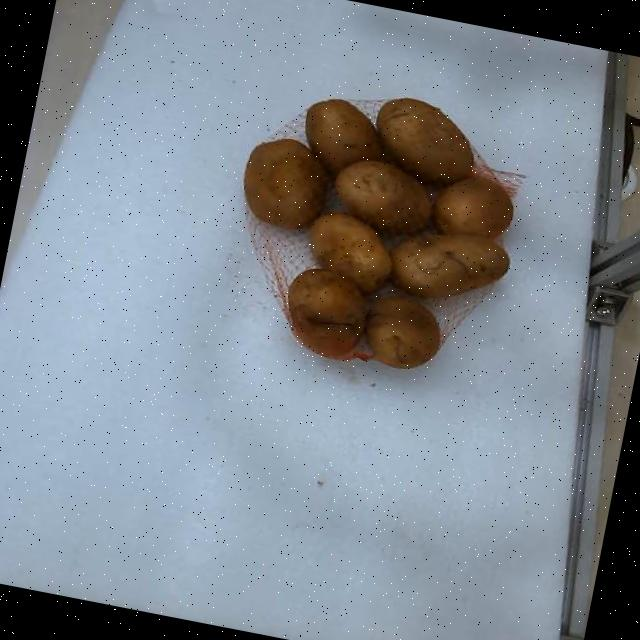potato: (377, 97, 473, 184), (244, 138, 329, 228), (393, 233, 509, 296), (288, 268, 366, 358), (337, 160, 432, 232), (310, 211, 392, 292), (306, 98, 382, 175), (365, 296, 440, 368), (434, 177, 513, 238)
